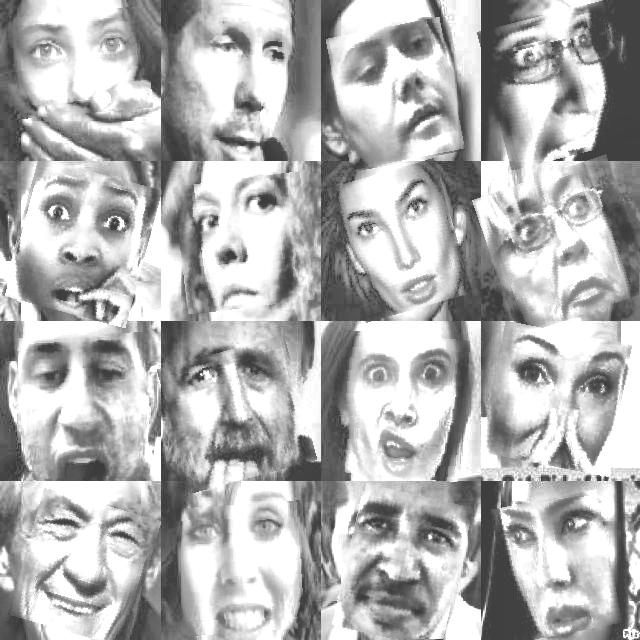fear: (482, 163, 640, 326), (484, 6, 634, 163), (10, 164, 154, 321), (164, 343, 310, 486), (334, 333, 468, 479), (19, 334, 149, 478), (177, 174, 311, 310), (13, 9, 151, 117)
happy: (486, 326, 630, 472), (16, 494, 153, 640)
neutral: (336, 165, 464, 317), (497, 494, 617, 638)
sad: (339, 488, 466, 640), (332, 22, 460, 168), (183, 502, 309, 634), (188, 16, 308, 150)
